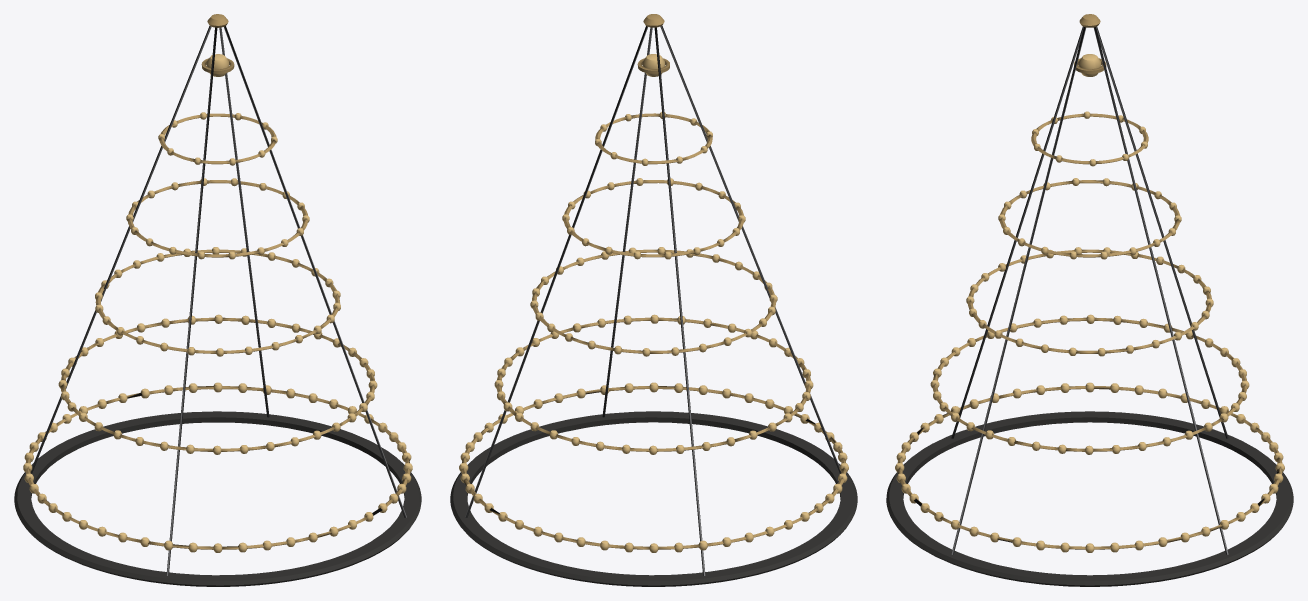
The model's file is intelligence.glb.
The picture shows the model from 3 angles, left to right: view 1: azimuth 30°, elevation 25°; view 2: azimuth 150°, elevation 25°; view 3: azimuth 270°, elevation 25°; orthographic projection.
Visible parts, largest first — view 1: foot, intelligence_brass, intelligence_brass_dark, intelligence_steel; view 2: foot, intelligence_brass, intelligence_brass_dark, intelligence_steel; view 3: foot, intelligence_brass, intelligence_brass_dark, intelligence_steel.
Part boxes in pixels (x1,y1,x2,y2): foot: (14, 411, 421, 586); intelligence_brass: (23, 54, 412, 552); intelligence_brass_dark: (25, 14, 410, 549); intelligence_steel: (30, 26, 406, 575); foot: (450, 411, 857, 586); intelligence_brass: (459, 54, 848, 552); intelligence_brass_dark: (461, 14, 846, 549); intelligence_steel: (465, 26, 841, 575); foot: (886, 411, 1293, 586); intelligence_brass: (895, 54, 1284, 552); intelligence_brass_dark: (897, 14, 1282, 549); intelligence_steel: (951, 26, 1228, 554).
Size of the model in its own units: 11.56 by 15.21 by 11.56.
